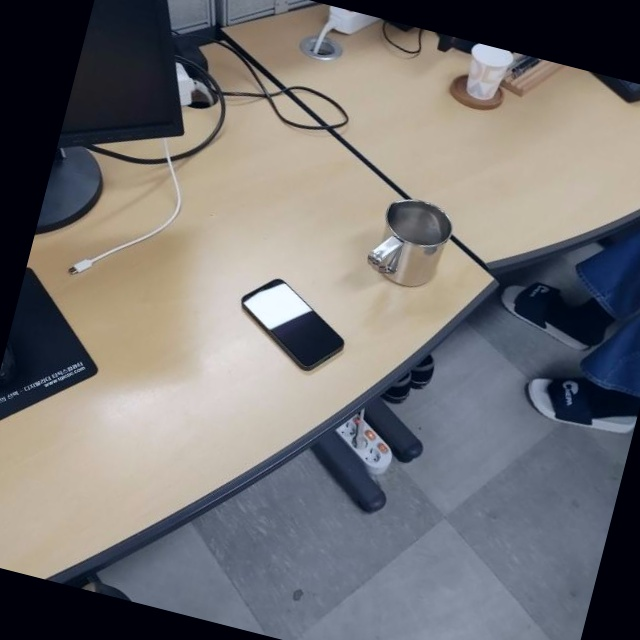cup: (361, 191, 458, 294)
phone: (227, 268, 357, 378)
